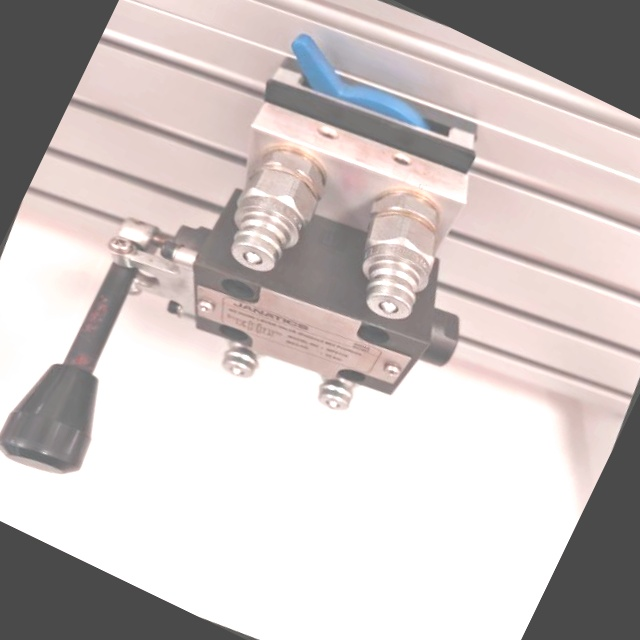4by3 hand lever valve: (0, 0, 589, 633)
